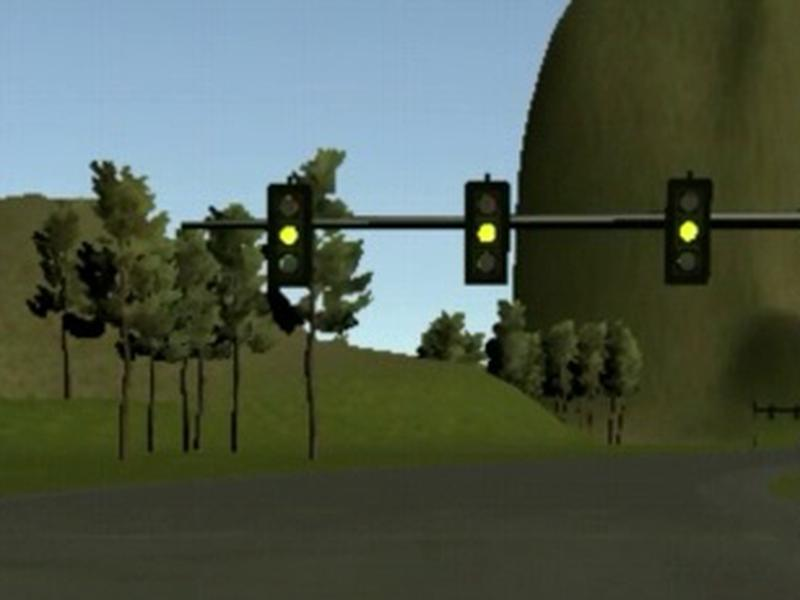Yellow: (663, 177, 713, 285), (462, 181, 511, 287), (267, 183, 311, 287)
